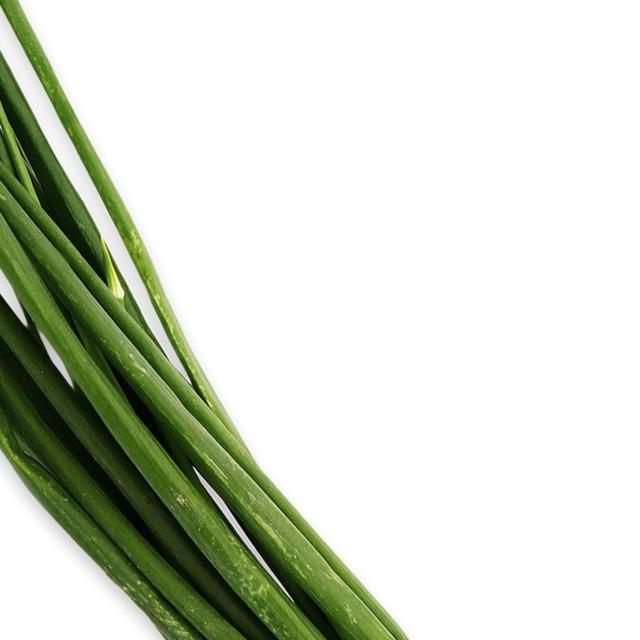green_onion: (0, 0, 608, 640)
